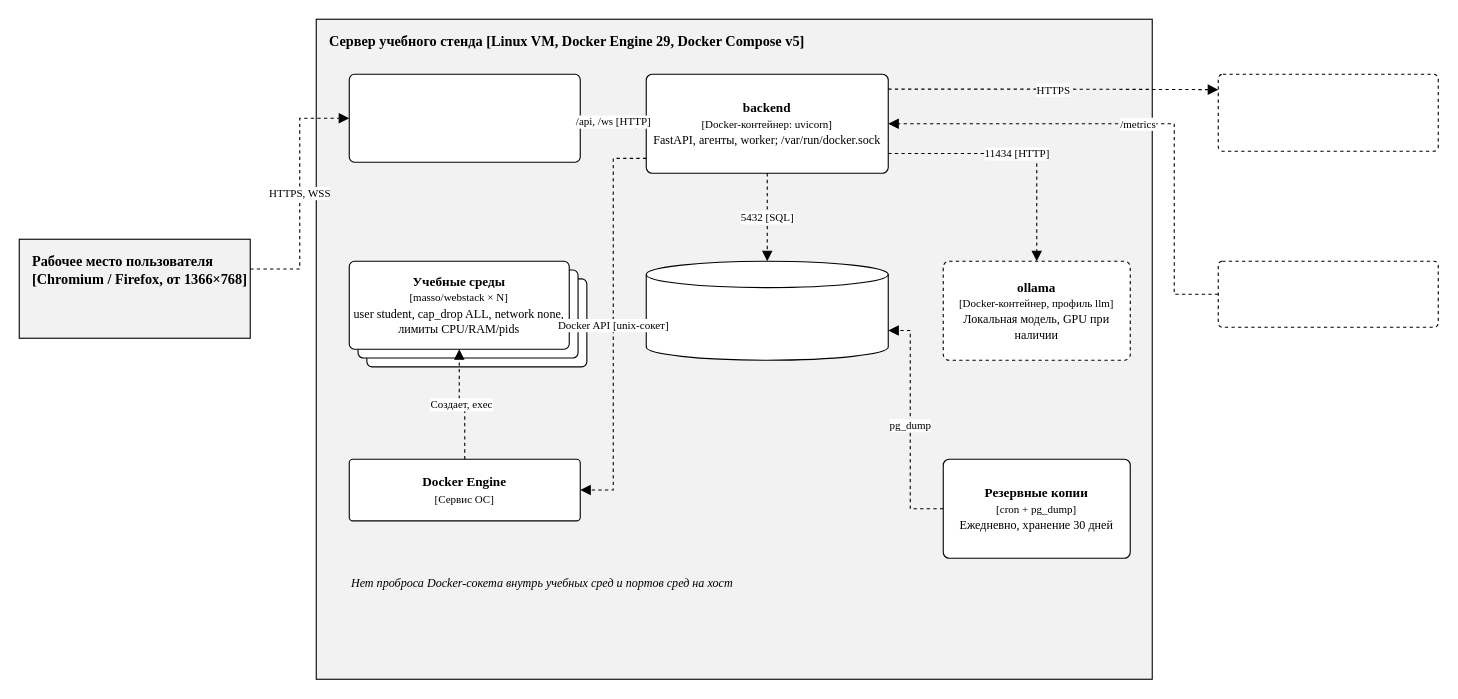
Image size: 1458x699. Some labels were removed from this diagram. Here are the shapes that lost their labels. From the top down, the centre of each, then its label:
At point 464,117: "frontend [Docker-контейнер: nginx] SPA, прокси /api и /ws; порт 80/443".
At point 1327,112: "Внешний LLM-провайдер [Внешняя система]".
At point 766,310: "db [pgvector/pgvector:pg18] Том pgdata".
At point 1327,293: "Prometheus [Опционально]".
